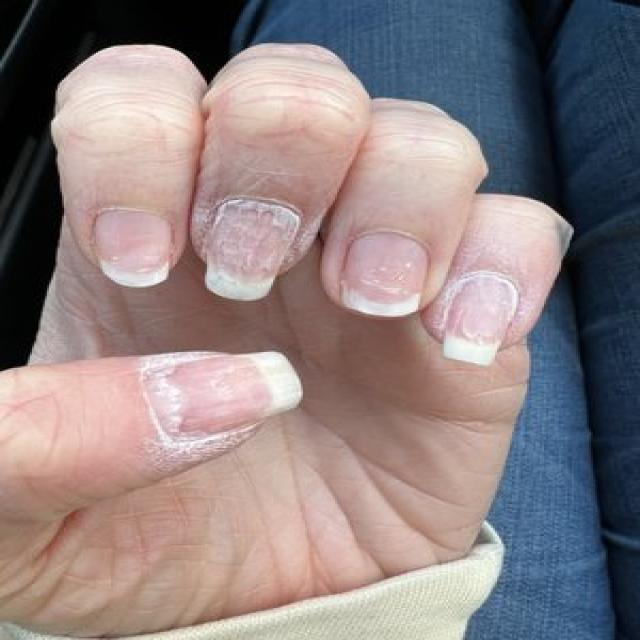Fingernail: (145, 352, 301, 435), (206, 200, 299, 300), (341, 232, 428, 317), (444, 274, 516, 365), (96, 210, 171, 287)
